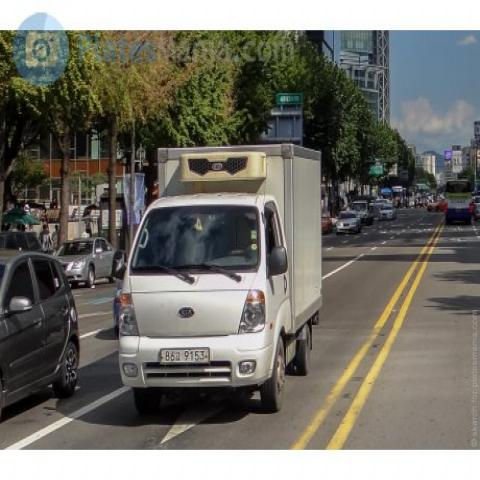LP: (154, 341, 218, 372)
